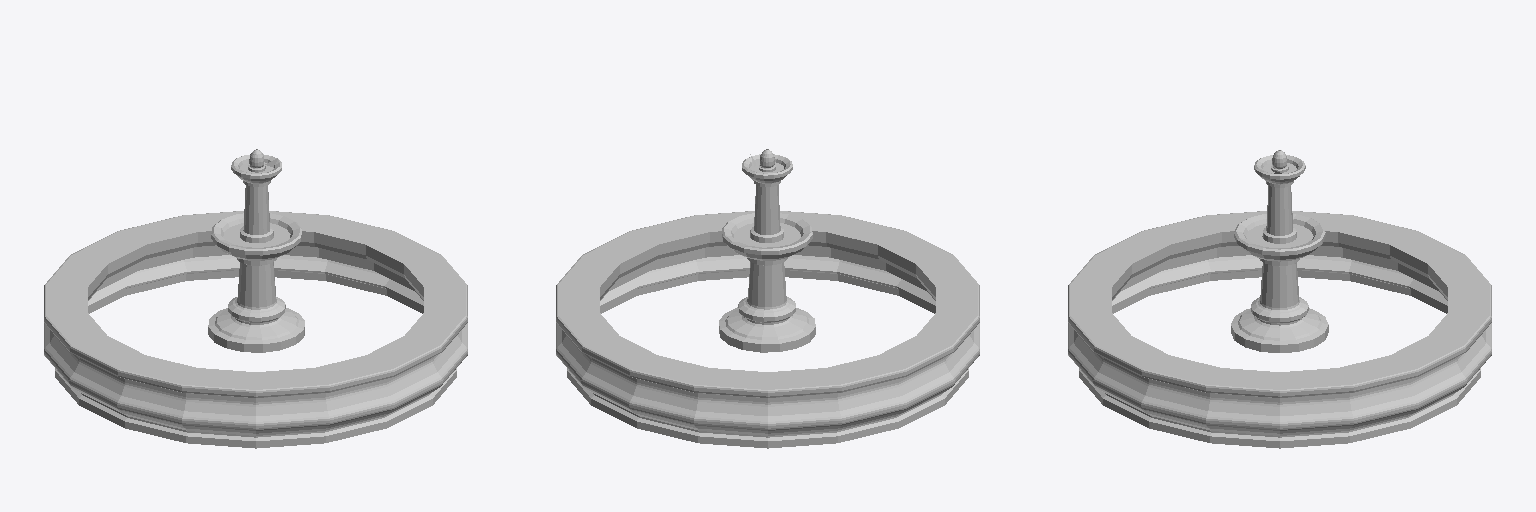
The model's file is badanfountain.obj.
3 views of the same model, side by side, from view 1: azimuth 30°, elevation 25°; view 2: azimuth 150°, elevation 25°; view 3: azimuth 270°, elevation 25° (orthographic).
Visible parts, largest first — view 1: Object002; view 2: Object002; view 3: Object002.
Boxes of the visible parts, x1=… form: Object002: x1=44, y1=149, x2=467, y2=448; Object002: x1=556, y1=149, x2=979, y2=448; Object002: x1=1068, y1=150, x2=1491, y2=448.
Bounding box in the file's own units: 6.82 × 3.71 × 6.72.